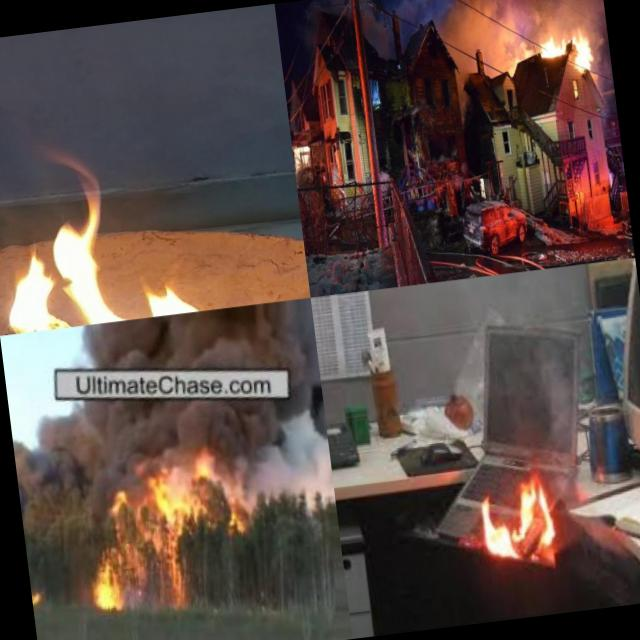fire: (0, 116, 241, 335), (477, 479, 560, 567), (205, 458, 249, 534), (142, 464, 192, 526), (86, 555, 125, 614), (569, 27, 596, 77), (101, 484, 132, 522), (537, 26, 568, 62)
smoke: (534, 332, 614, 558), (35, 399, 242, 481), (234, 400, 334, 500), (474, 0, 530, 63), (586, 16, 615, 101), (520, 0, 605, 28), (433, 0, 482, 43)
